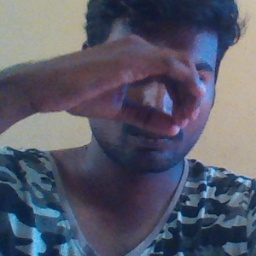O: (60, 33, 211, 143)
